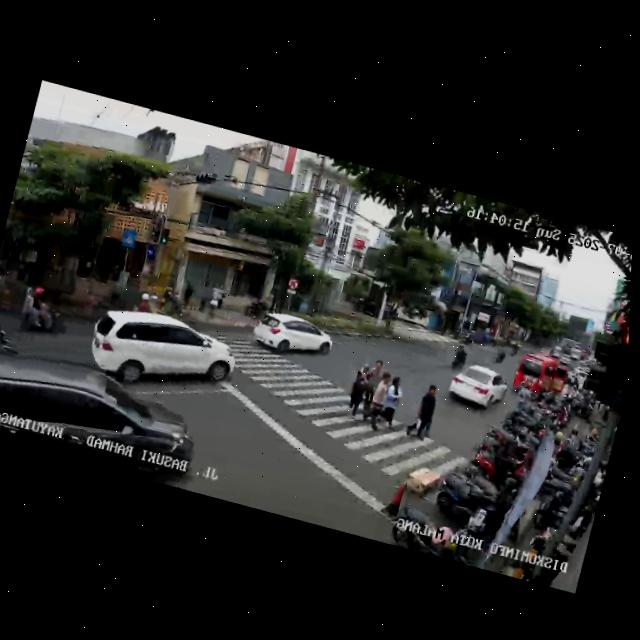car: (0, 350, 208, 490), (79, 296, 238, 412), (249, 306, 337, 368), (443, 358, 509, 419), (510, 350, 572, 407)
motorcycle: (16, 282, 73, 342), (0, 302, 18, 364), (450, 338, 471, 371)
person: (407, 380, 444, 446), (377, 373, 408, 438), (342, 360, 372, 427), (364, 367, 394, 433), (356, 358, 385, 425), (205, 286, 224, 320)
